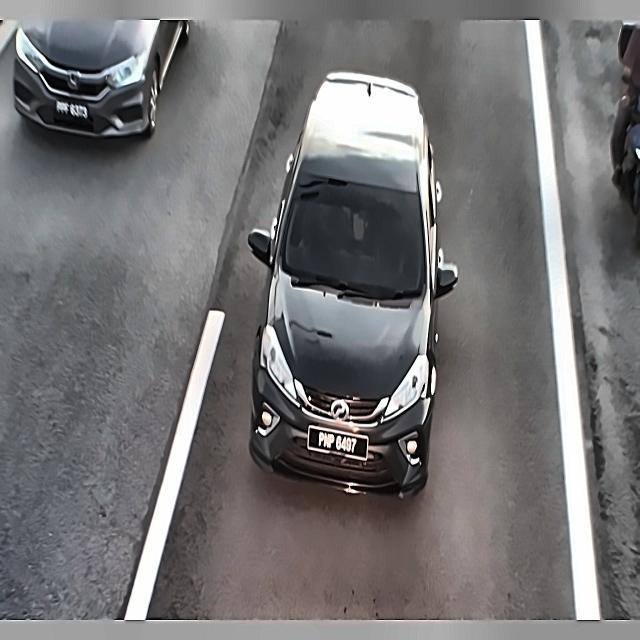car: (309, 410, 367, 470), (53, 96, 92, 123)
